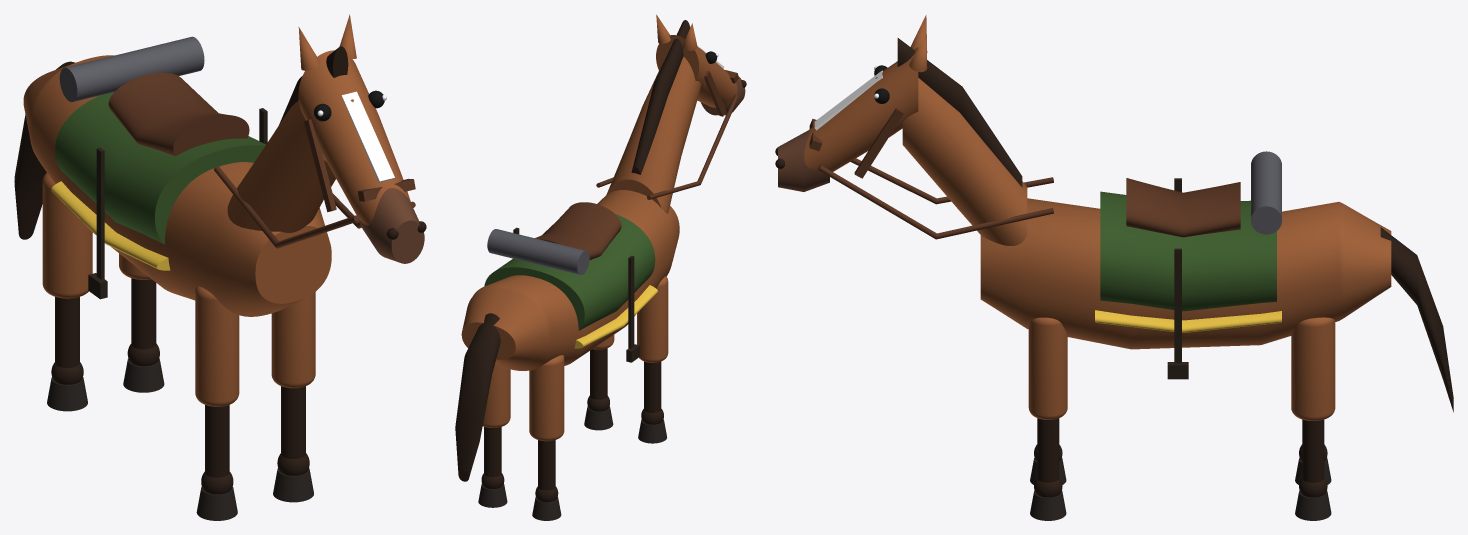
Rendered from horse_bay.glb.
3 renders of one model, left to right at view 1: azimuth 30°, elevation 25°; view 2: azimuth 150°, elevation 25°; view 3: azimuth 270°, elevation 25°, orthographic. The views are drawn at different scales.
Visible parts, largest first — view 1: Body, Cloth, Head, Neck, Saddle, Cloak, Upper_FL, Upper_HL, Upper_FR, Muzzle, Tail, ClothTrim (+18 smaller); view 2: Body, Cloth, Neck, Tail, Saddle, Upper_HL, Cloak, Mane, Upper_FL, Head, Upper_HR, ClothTrim (+12 smaller); view 3: Body, Cloth, Neck, Head, Saddle, Upper_HR, Upper_FR, Tail, Mane, Cloak, ClothTrim, Muzzle (+8 smaller).
Boxes of the visible parts, x1,y1,x2,y2 form: Body: (23,55,331,316); Cloth: (55,92,265,244); Head: (298,50,411,225); Neck: (227,100,335,232); Saddle: (108,72,249,155); Cloak: (59,36,204,101); Upper_FL: (195,286,239,406); Upper_HL: (42,173,92,298); Upper_FR: (271,292,315,388); Muzzle: (359,188,424,263); Tail: (14,61,74,239); ClothTrim: (51,181,170,270); Body: (461,190,679,370); Cloth: (484,214,655,330); Neck: (606,56,700,213); Tail: (455,313,500,481); Saddle: (535,202,621,259); Upper_HL: (529,355,564,441); Cloak: (487,229,589,274); Mane: (631,20,690,174); Upper_FL: (637,276,668,362); Head: (656,35,737,107); Upper_HR: (482,364,510,427); ClothTrim: (574,285,657,348); Body: (980,198,1391,349); Cloth: (1100,191,1276,311); Neck: (902,78,1027,245); Head: (804,47,918,171); Saddle: (1126,178,1240,237); Upper_HR: (1291,317,1335,421); Upper_FR: (1028,317,1067,419); Tail: (1380,227,1453,412); Mane: (897,38,1022,187); Cloak: (1251,151,1281,234); ClothTrim: (1095,310,1281,332); Muzzle: (778,130,829,191).
Bounding box in the file's own units: 0.69 × 2 × 2.61.
